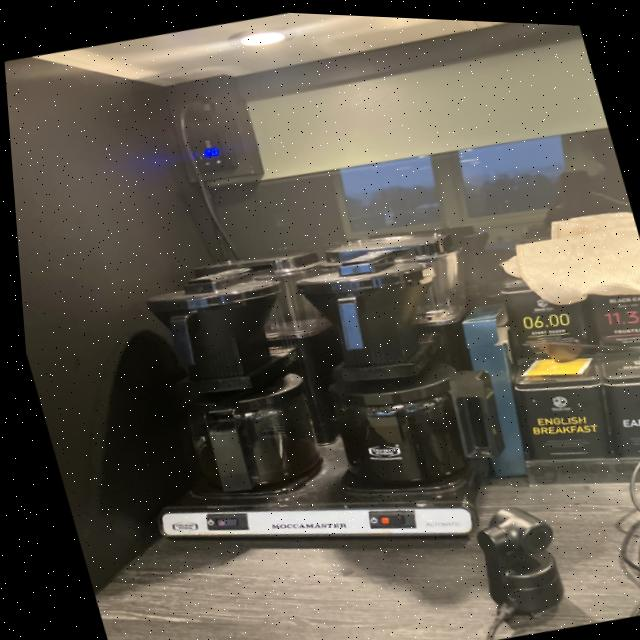coffee: (131, 346, 350, 515), (324, 347, 489, 499)
